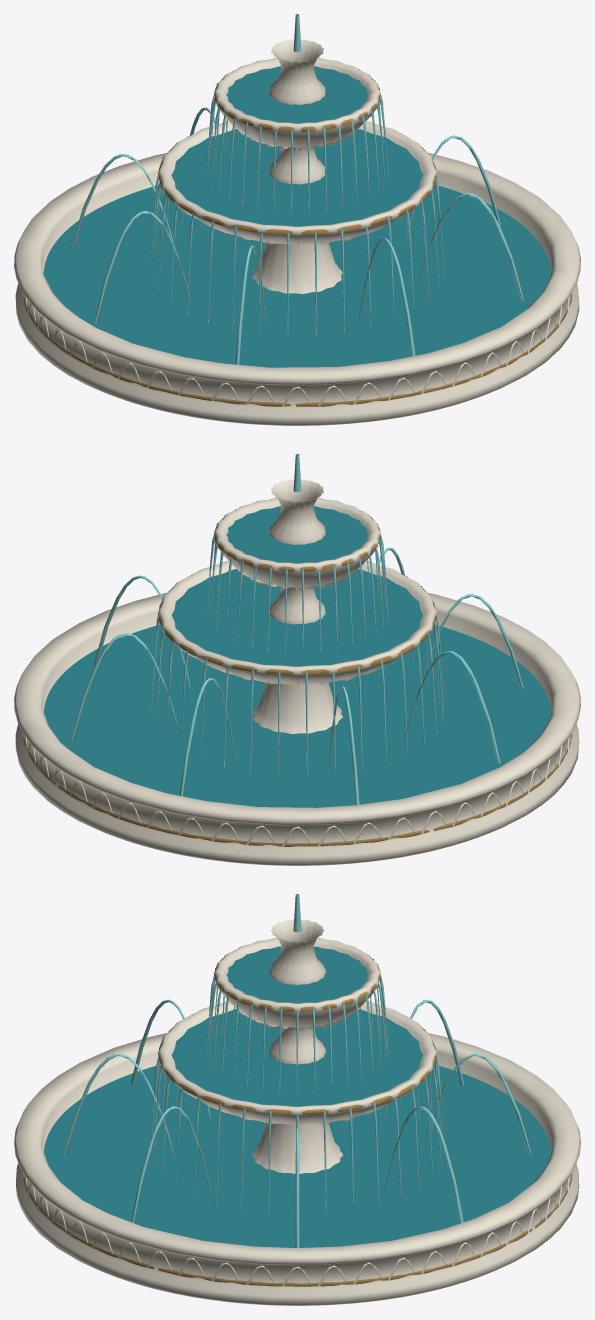
The model's file is FountainLOD1.fbx.
The picture shows the model from 3 angles, top to bottom: view 1: azimuth 30°, elevation 25°; view 2: azimuth 150°, elevation 25°; view 3: azimuth 270°, elevation 25°; orthographic projection.
Parts seen in each view (by area): view 1: Fountain LOD1; view 2: Fountain LOD1; view 3: Fountain LOD1.
Boxes of the visible parts, <box> form: Fountain LOD1: <box>14,14,580,425</box>; Fountain LOD1: <box>14,454,580,865</box>; Fountain LOD1: <box>14,894,580,1305</box>.
Size of the model in its own units: 620 by 355 by 620.
